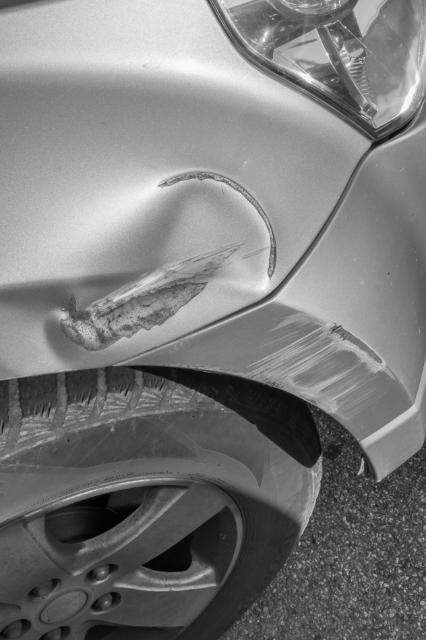Bumper: (239, 307, 426, 445)
Fender: (7, 87, 255, 351)
